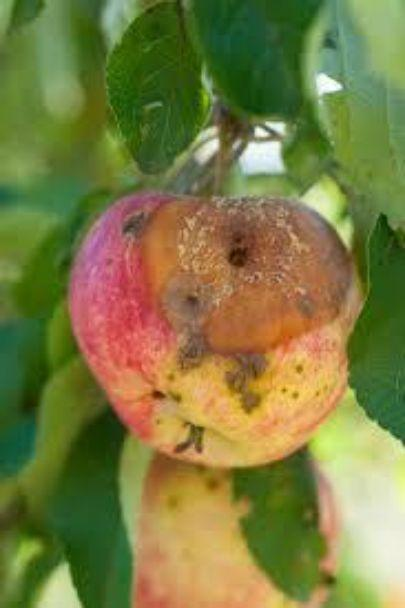ROT: (60, 164, 394, 491)
